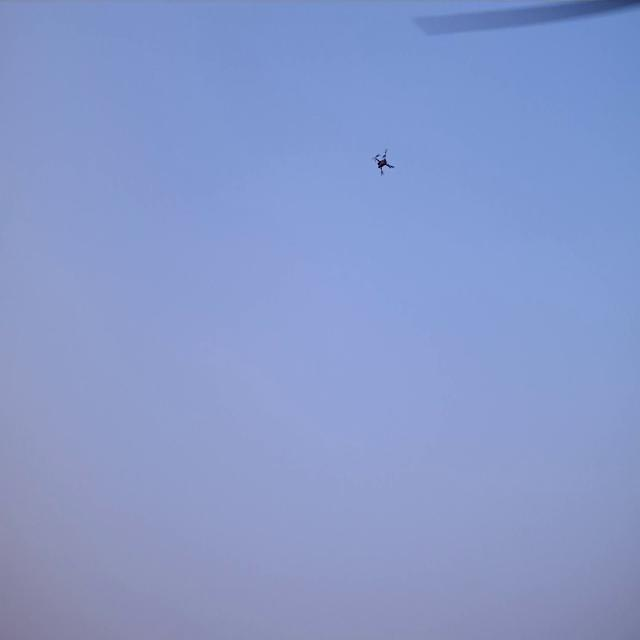UAV: (372, 147, 395, 177)
